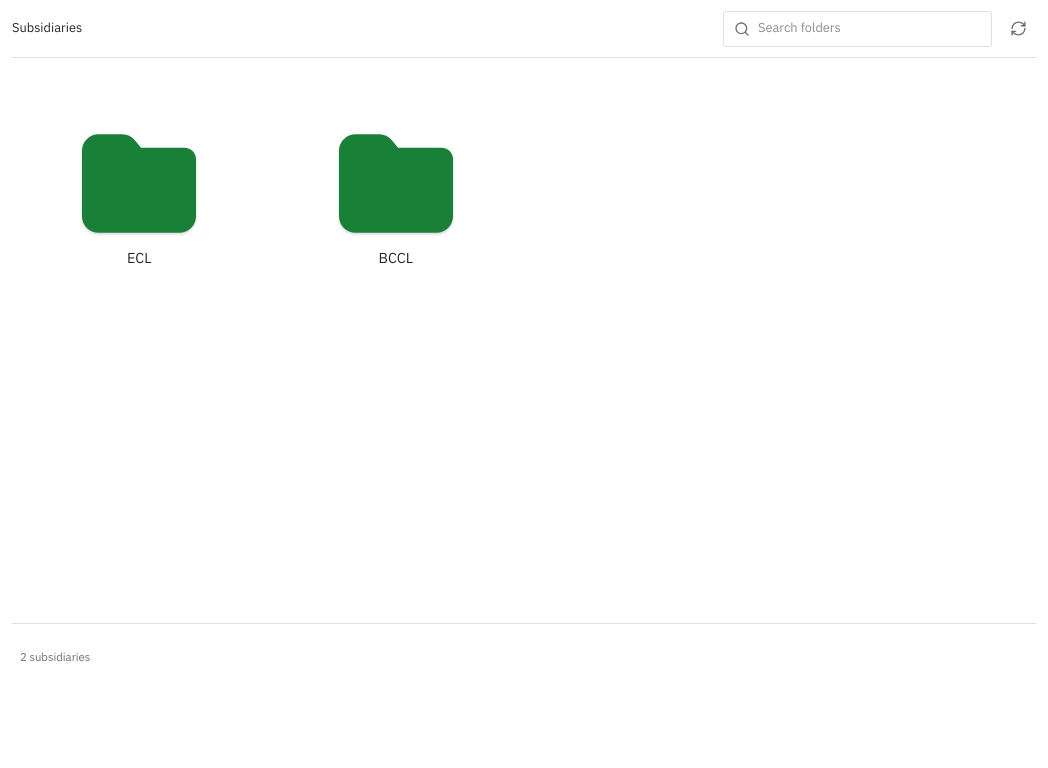
it: administrator drills from subsidiary to report category without storage folders
Click the button with aria-label "ECL 2 report categories".
click(139, 197)  # box [20, 92, 258, 302]
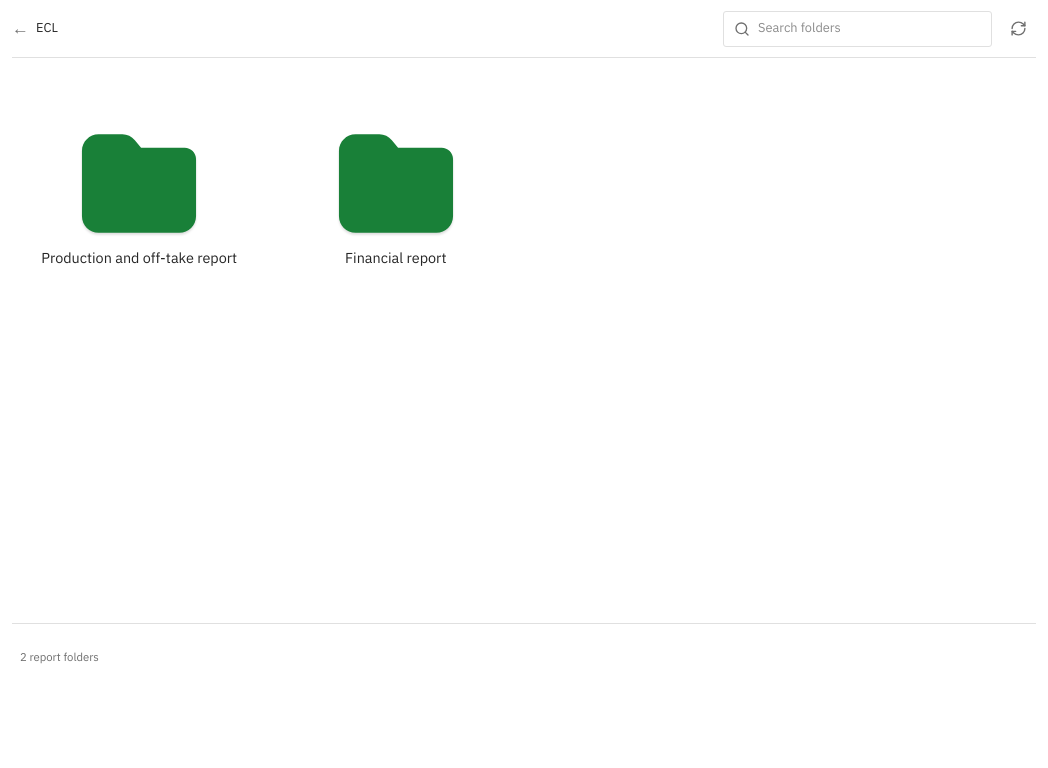
Expected: the field labelled "Search folders" is shown, [758, 12, 981, 44]
Expected: the button named "Reload Vault" is shown, [1000, 11, 1036, 46]
Click the button "Production and off-take report".
click(139, 197)  # box [20, 92, 258, 302]
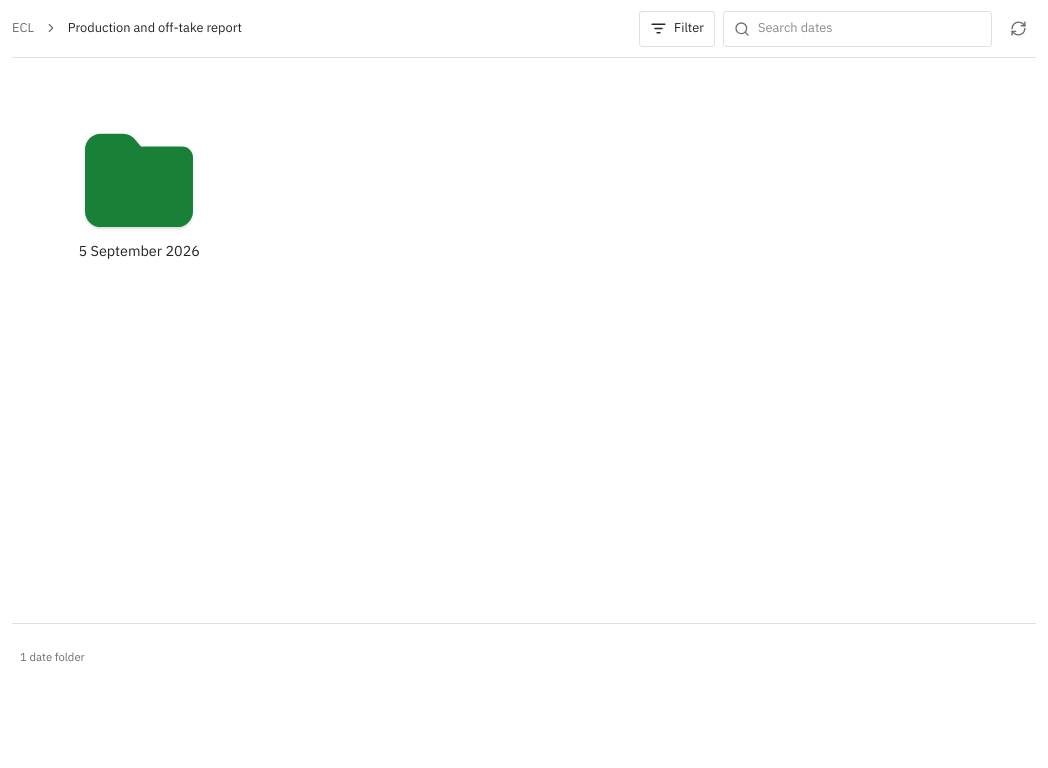
Expected: the button with aria-label "5 September 2026 2 versions" is shown, [20, 98, 258, 288]
